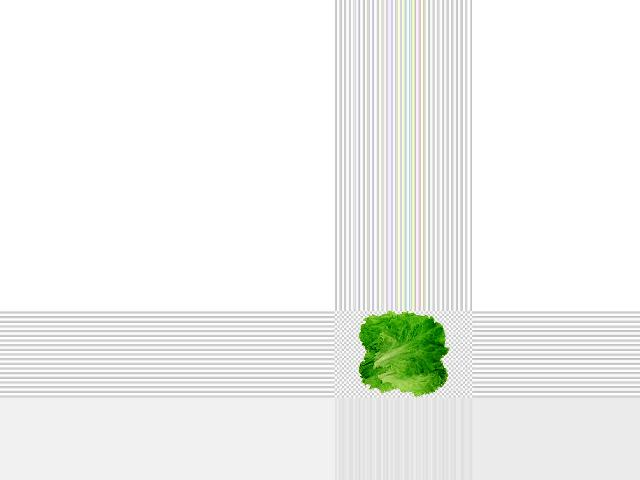lettuce: (352, 309, 454, 398)
